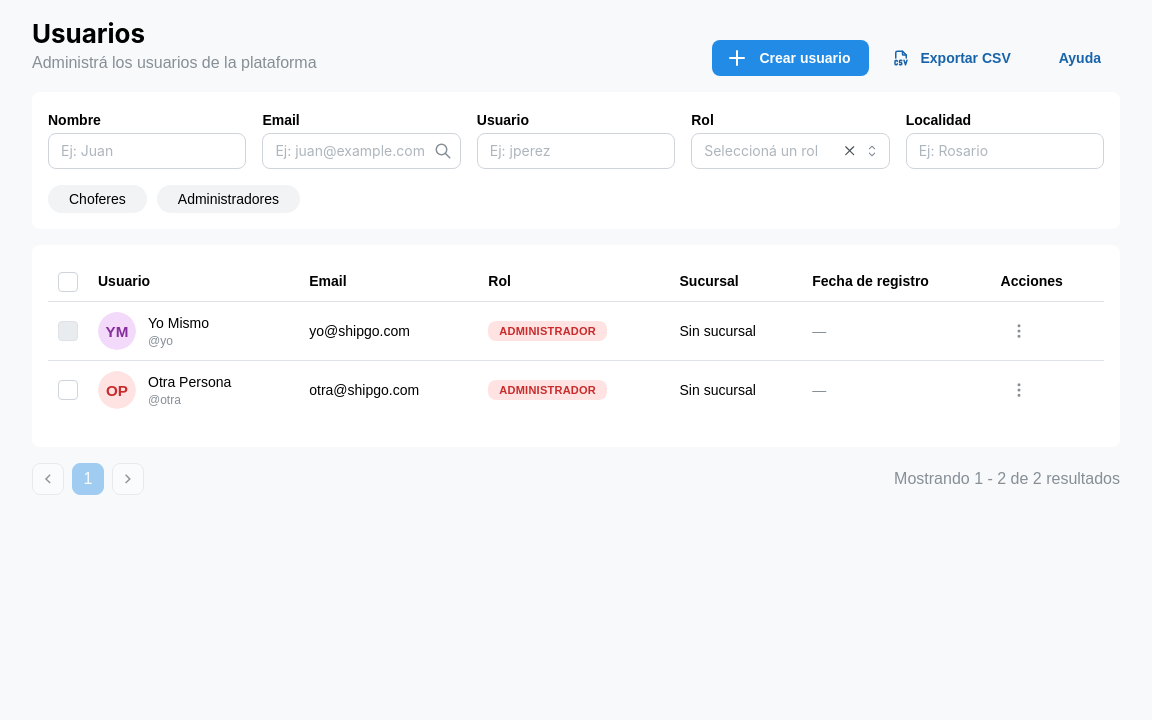
Test case: ListaUsuarios — la selección masiva nunca incluye al propio usuario (SHG-FE-095) › "Eliminar seleccionados" nunca llama a delete con el id del propio usuario
Later steps or results of the test are not shown.
Expected: the text "Otra Persona" is shown, [148, 372, 231, 392]
Click the checkbox named "Seleccionar todos los usuarios" at (68, 282), box [58, 272, 78, 292]
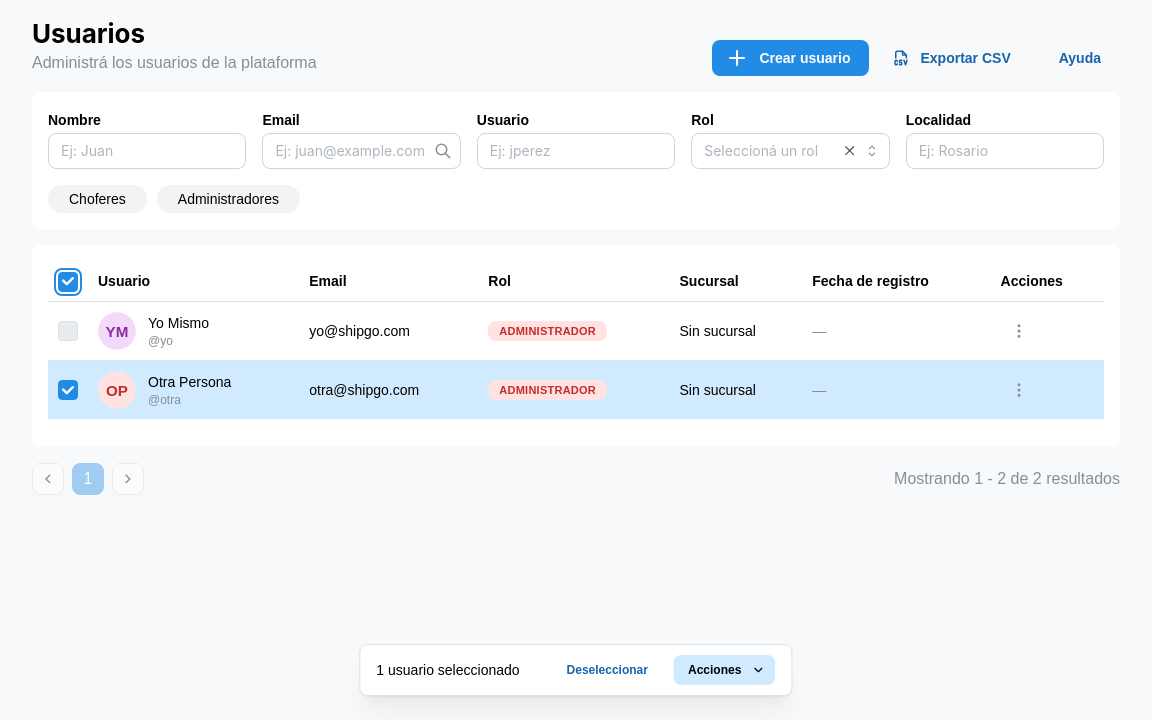
Result: the text "1 usuario seleccionado" is shown at [376, 660, 520, 680]
Click the button "Acciones" at (724, 670), box [673, 655, 776, 685]
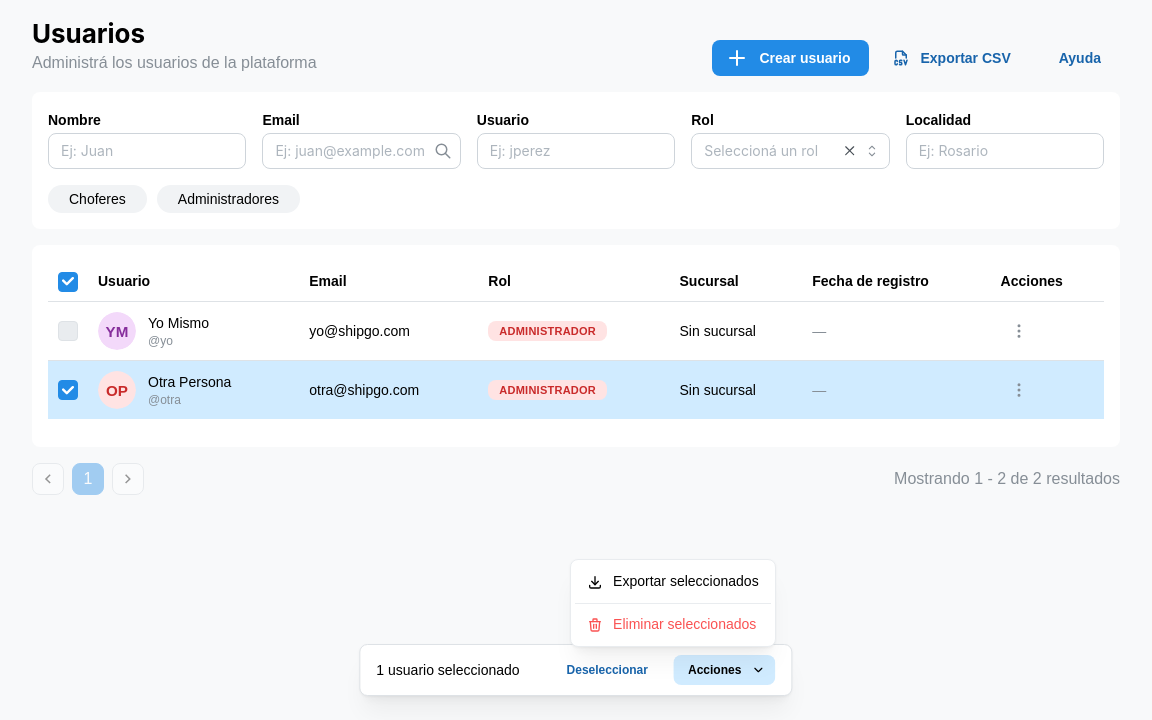
Click the menu item "Eliminar seleccionados" at (673, 625), box [575, 608, 771, 642]
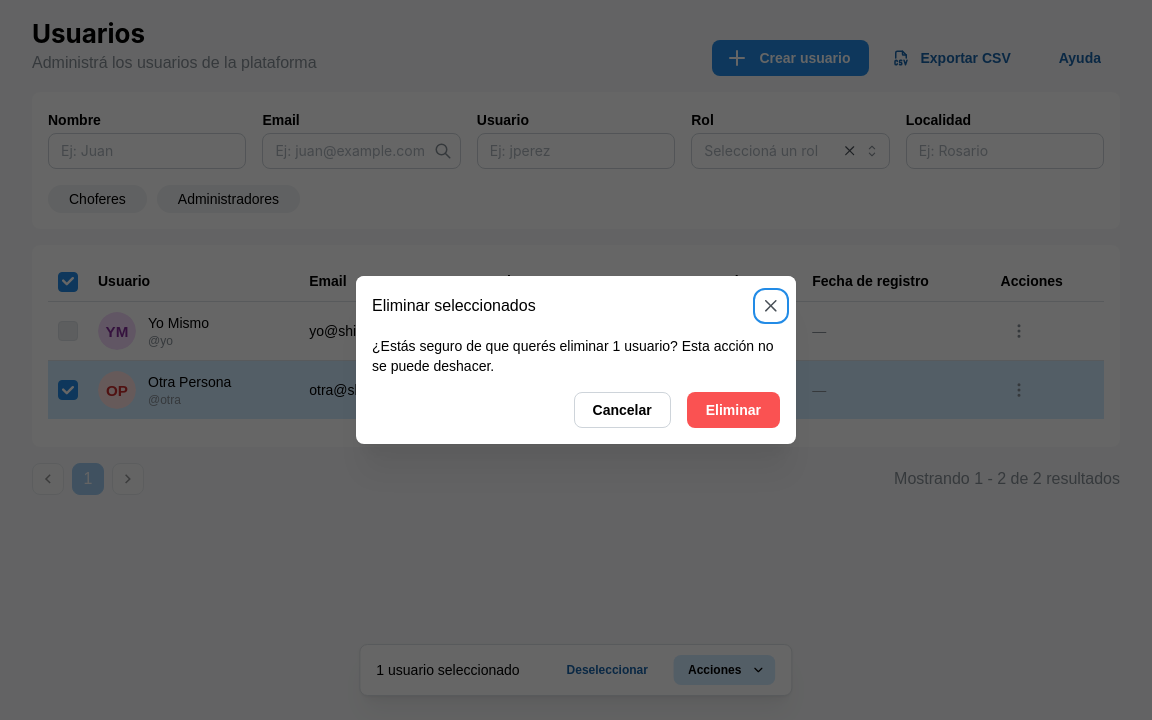
Result: the text "eliminar 1 usuario" is shown at [372, 338, 774, 374]
